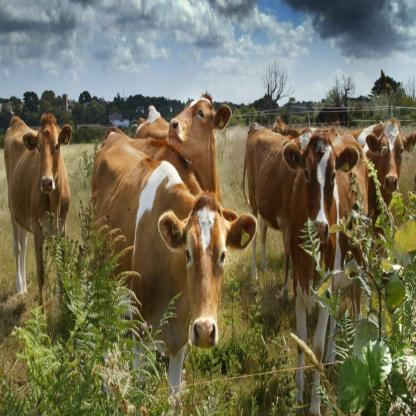cow: (92, 133, 257, 411), (248, 122, 358, 416), (5, 117, 74, 315), (135, 98, 232, 210), (353, 121, 416, 221)
